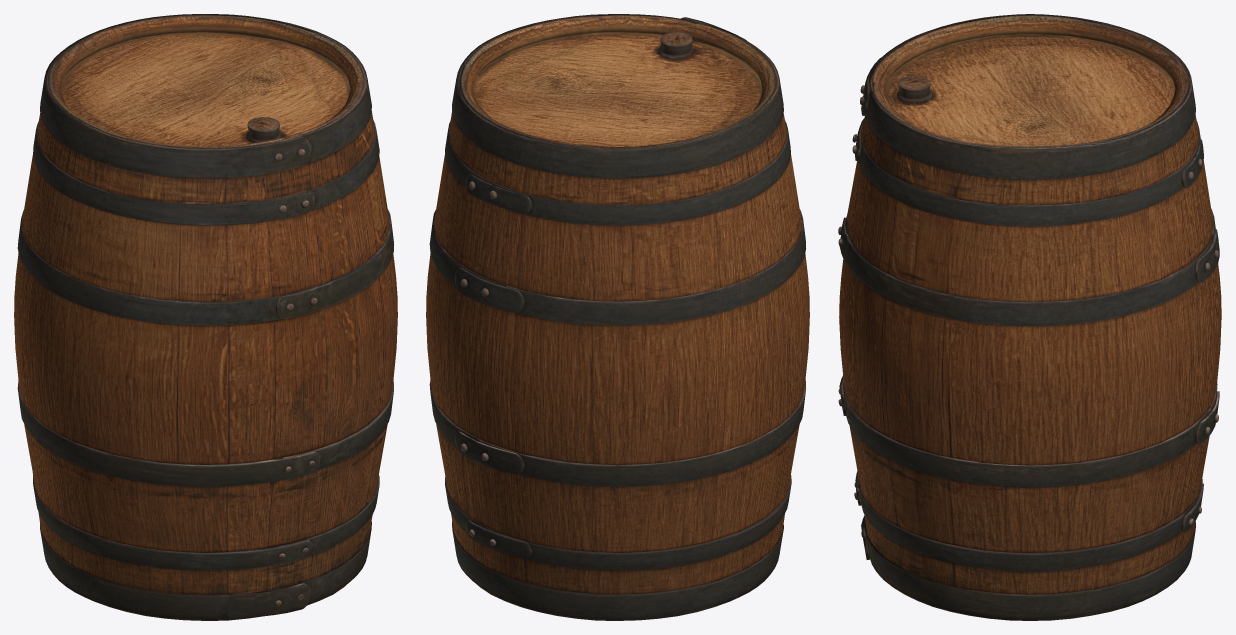
The model's file is bbqsmith_whisky_barrel.glb.
3 renders of one model, left to right at view 1: azimuth 30°, elevation 25°; view 2: azimuth 150°, elevation 25°; view 3: azimuth 270°, elevation 25°, orthographic.
Visible parts, largest first — view 1: tripo_node_519e9a9f-29c3-4206-98b3-da03e74e1495; view 2: tripo_node_519e9a9f-29c3-4206-98b3-da03e74e1495; view 3: tripo_node_519e9a9f-29c3-4206-98b3-da03e74e1495.
Boxes of the visible parts, box(x1,y1,x2,y2) form: tripo_node_519e9a9f-29c3-4206-98b3-da03e74e1495: box(14, 14, 397, 620); tripo_node_519e9a9f-29c3-4206-98b3-da03e74e1495: box(426, 14, 809, 620); tripo_node_519e9a9f-29c3-4206-98b3-da03e74e1495: box(838, 14, 1221, 620).
Size of the model in its own units: 0.7339 by 0.9995 by 0.7349.
Materials: 1 (1 with a texture image).
